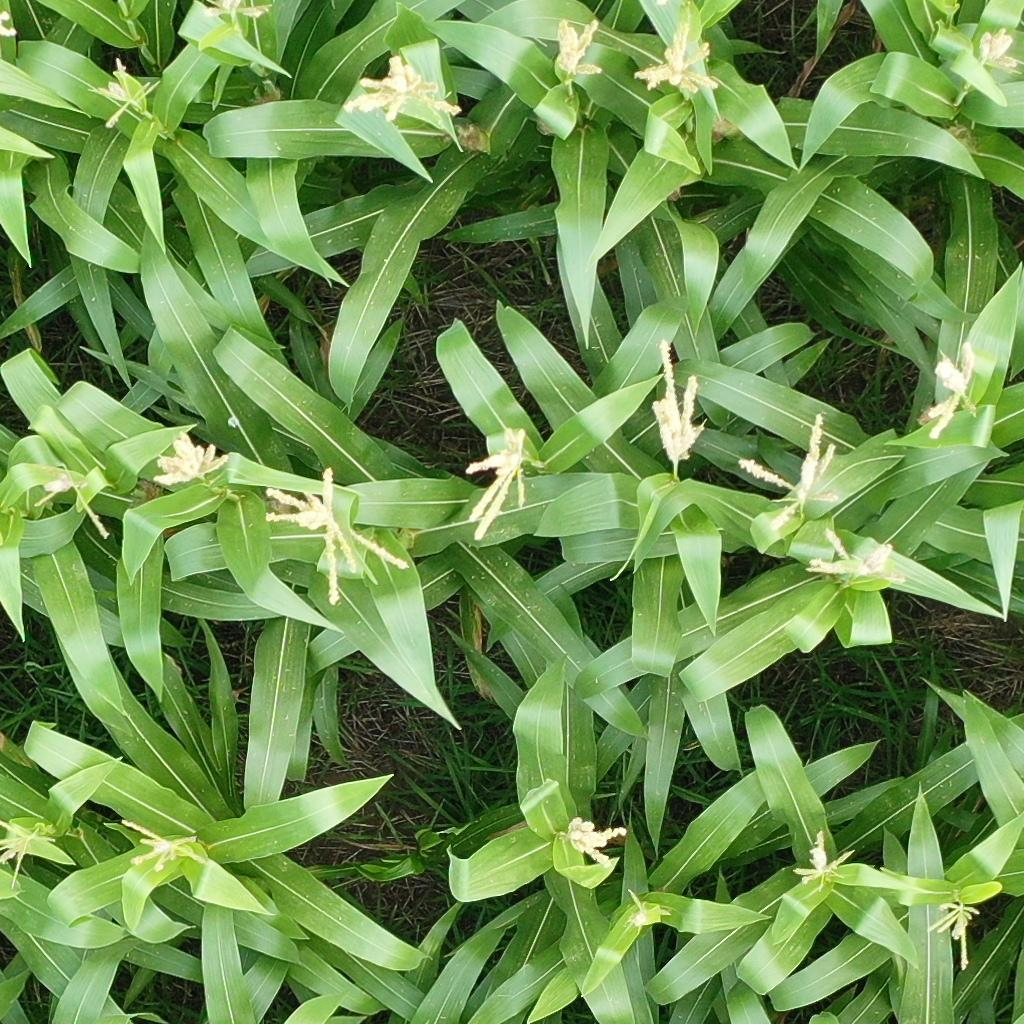Tassel: (264, 465, 409, 609), (738, 412, 839, 532), (462, 426, 538, 545), (645, 340, 708, 466), (347, 56, 462, 125), (633, 12, 719, 100), (804, 525, 905, 591), (32, 466, 112, 540), (923, 340, 978, 440), (122, 818, 207, 874), (96, 59, 160, 131), (154, 436, 230, 491), (927, 900, 981, 972), (1, 816, 56, 886), (562, 816, 627, 871), (792, 831, 851, 889), (552, 15, 603, 82), (977, 23, 1018, 75), (628, 889, 668, 933), (205, 1, 271, 25), (1, 11, 17, 41)
